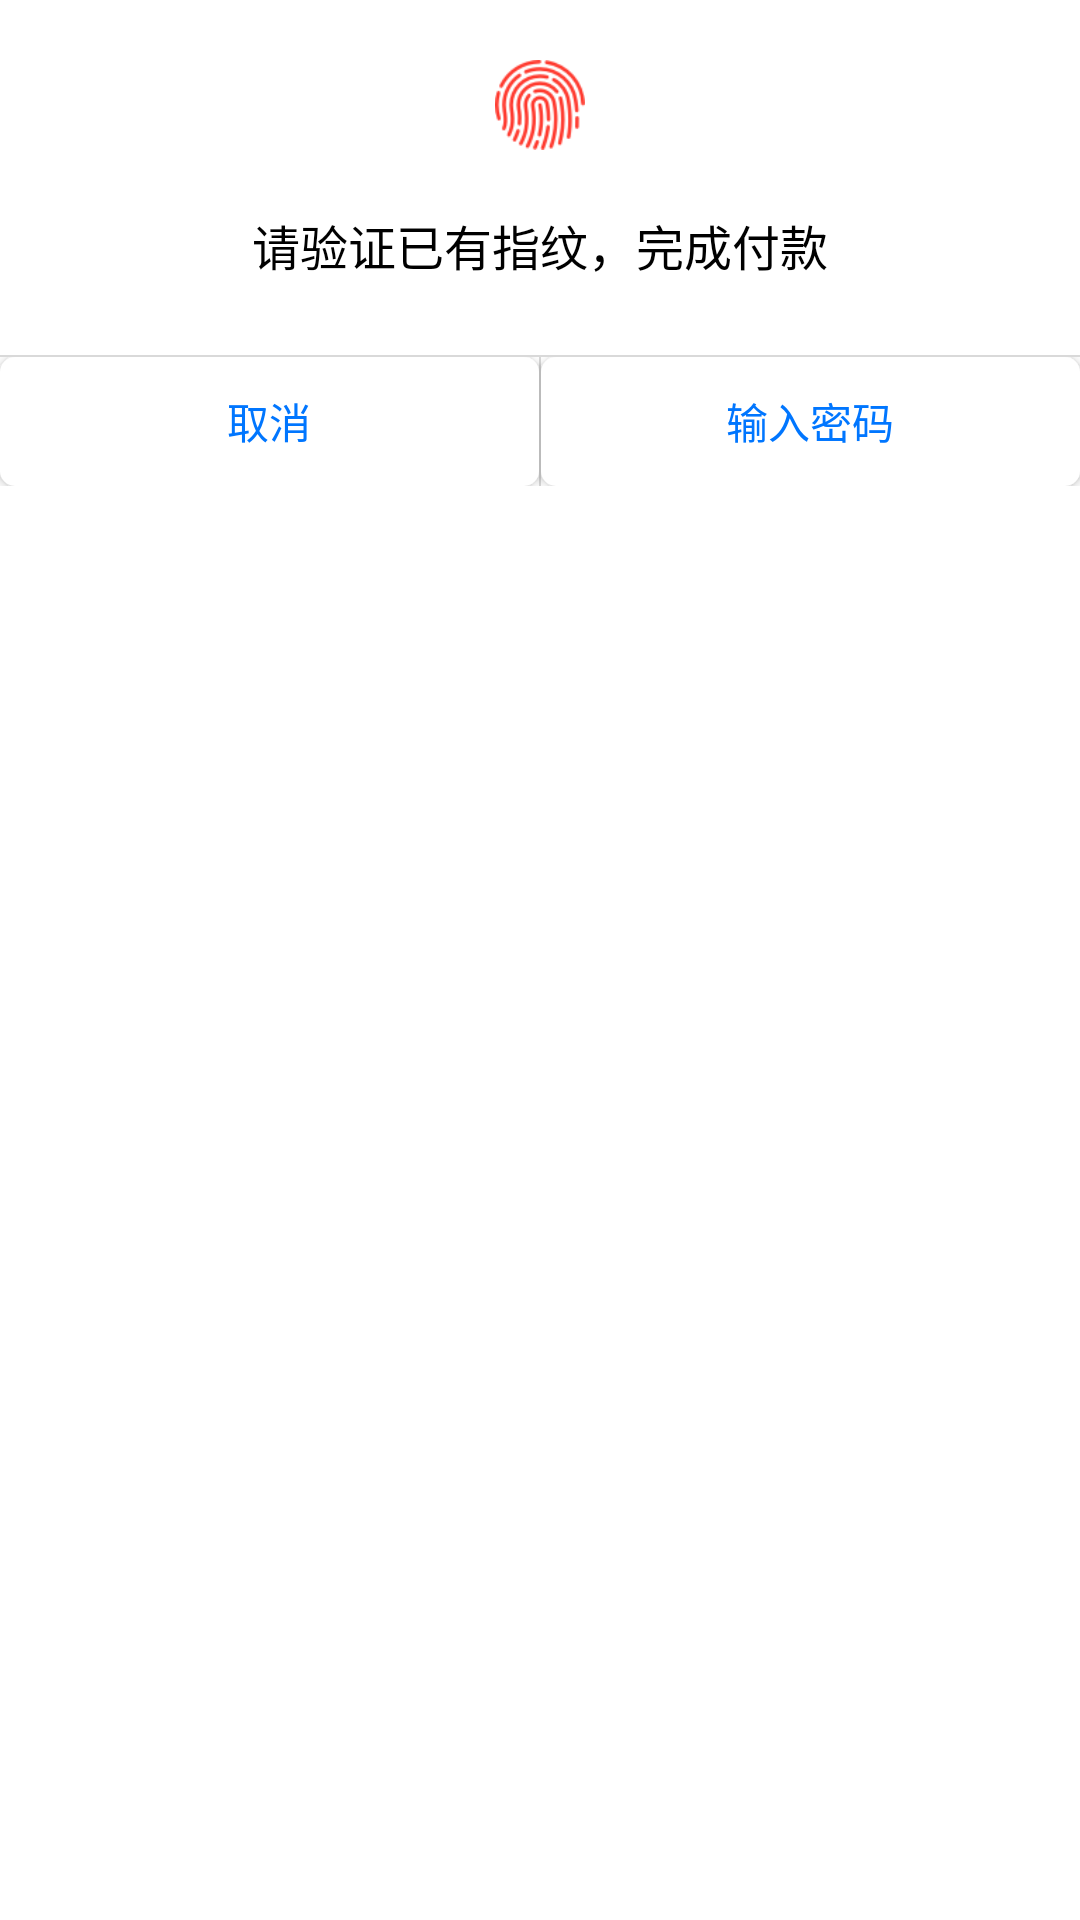

Icon bounding boxes for this 1080 × 1920 phone screenshot, format (x1, y1, x2, y2):
fingerprint: (495, 60, 585, 150)
